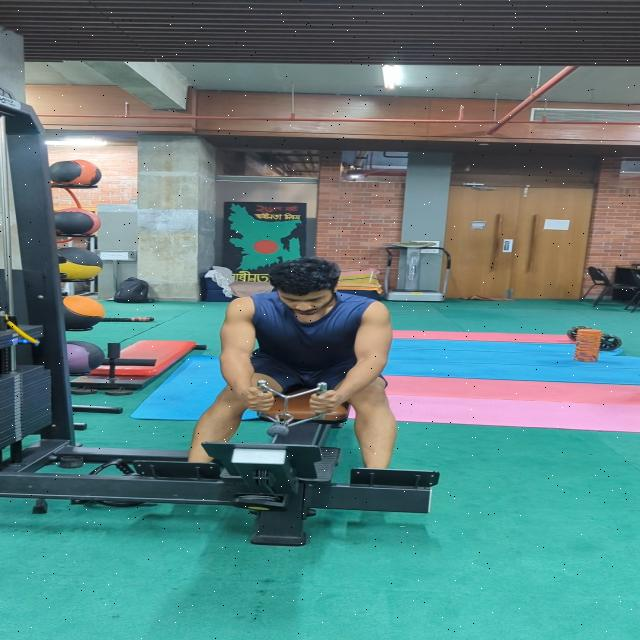Normal_RowingMachineExercise: (177, 254, 421, 476)
